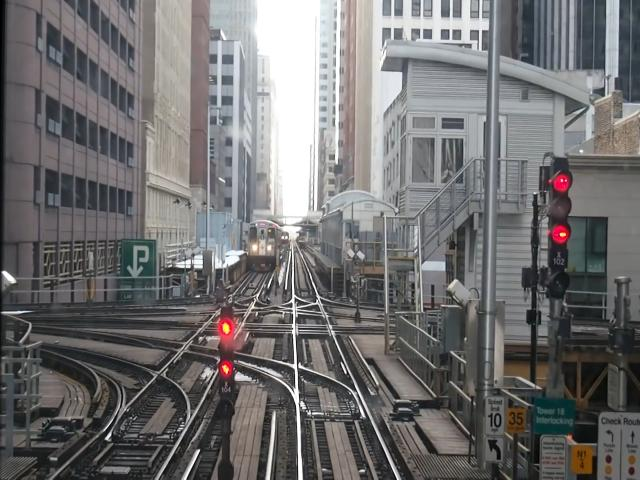signal light: (545, 152, 575, 306), (218, 308, 237, 424)
